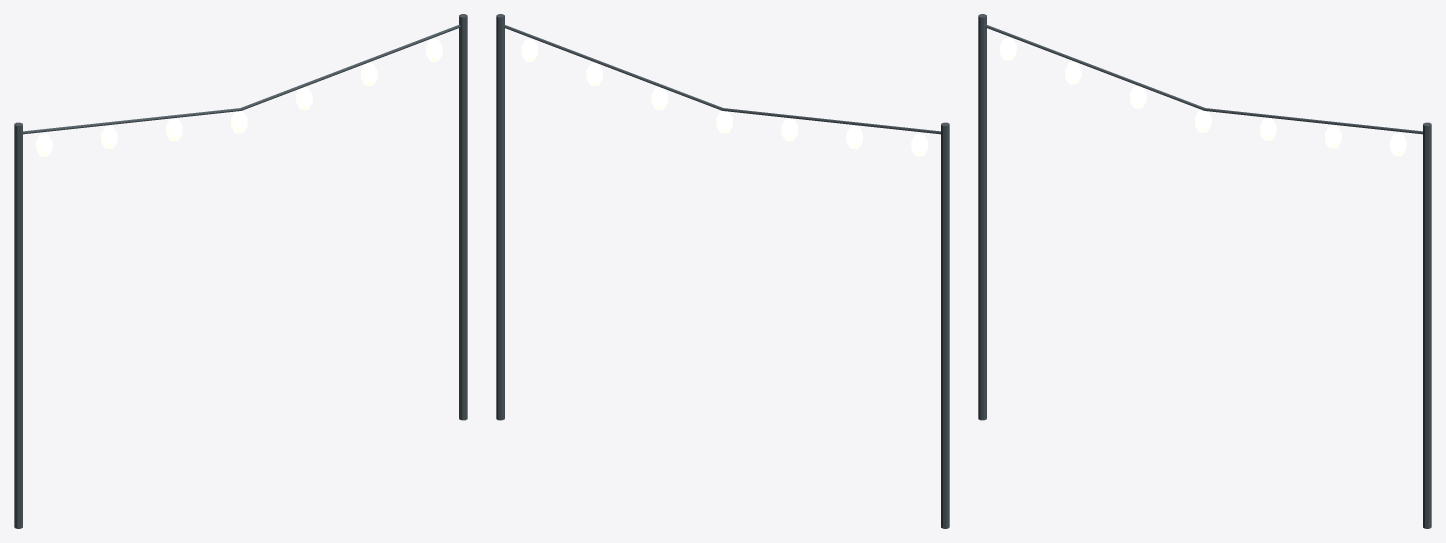
Rendered from HAP_DECOR_LIGHTS_01.fbx.
The picture shows the model from 3 angles, left to right: view 1: azimuth 30°, elevation 25°; view 2: azimuth 150°, elevation 25°; view 3: azimuth 330°, elevation 25°; orthographic projection.
Parts seen in each view (by area): view 1: HAP_DECOR_LIGHTS_01; view 2: HAP_DECOR_LIGHTS_01; view 3: HAP_DECOR_LIGHTS_01.
Part boxes in pixels (x1,y1,x2,y2): HAP_DECOR_LIGHTS_01: [14, 14, 467, 528]; HAP_DECOR_LIGHTS_01: [496, 14, 949, 528]; HAP_DECOR_LIGHTS_01: [978, 14, 1431, 528].
Size of the model in its own units: 265 by 225 by 8.14.
